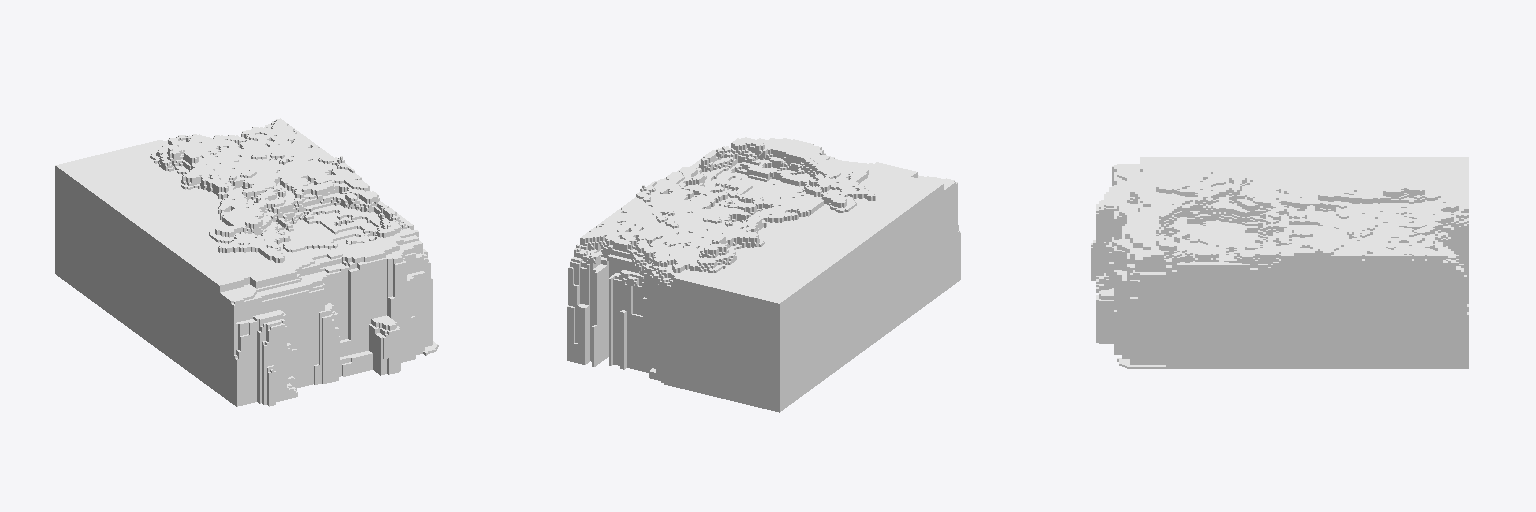
Rendered from Cubeland-13.obj.
3 renders of one model, left to right at view 1: azimuth 30°, elevation 25°; view 2: azimuth 150°, elevation 25°; view 3: azimuth 270°, elevation 25°, orthographic.
Visible parts, largest first — view 1: object 1; view 2: object 1; view 3: object 1.
Boxes of the visible parts, x1,y1,x2,y2 form: object 1: [55, 118, 438, 406]; object 1: [567, 137, 960, 412]; object 1: [1091, 157, 1468, 368].
Size of the model in its own units: 9.4 by 5.2 by 14.5.